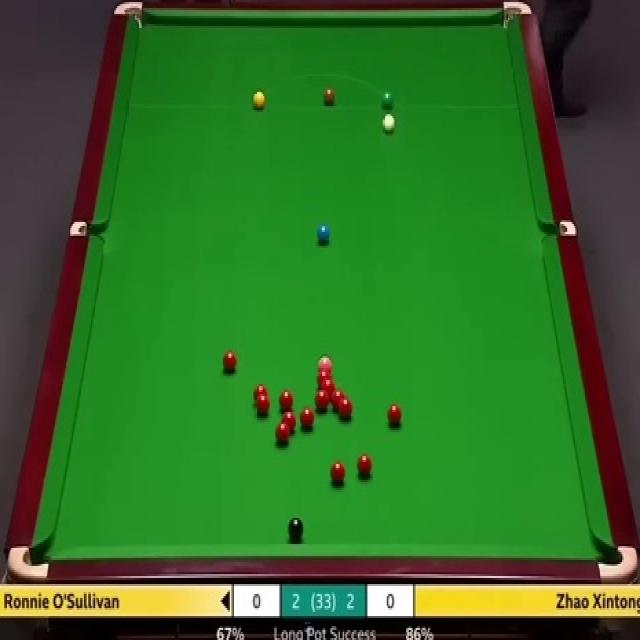black-ball: (286, 514, 304, 538)
blue-ball: (316, 225, 331, 242)
brown-ball: (324, 88, 335, 106)
green-ball: (380, 88, 395, 110)
pink-ball: (318, 356, 334, 370)
red-ball: (386, 399, 402, 426), (221, 349, 237, 374), (314, 389, 330, 412), (300, 405, 316, 428), (329, 457, 344, 481), (277, 419, 292, 442), (337, 397, 353, 418), (356, 453, 370, 474), (282, 413, 297, 432), (279, 389, 294, 408), (330, 386, 344, 406), (258, 393, 270, 416), (320, 378, 334, 396), (253, 383, 265, 403), (315, 369, 331, 384)
white-ball: (382, 113, 396, 132)
yellow-ball: (253, 90, 265, 110)
